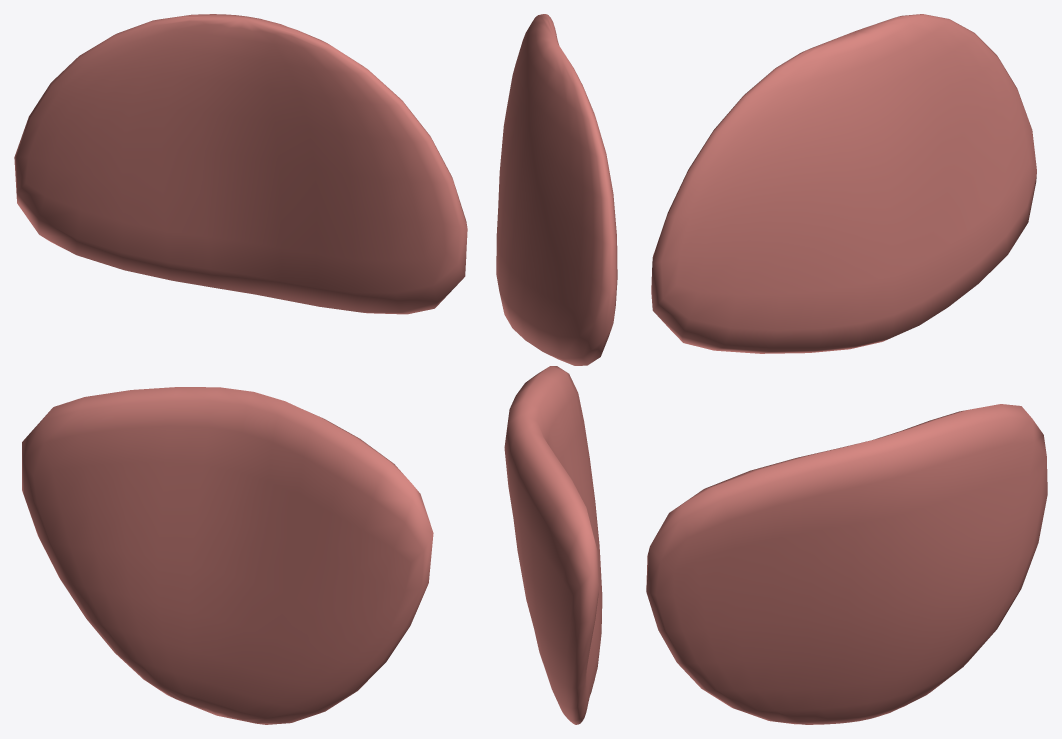
3 views of the same model, side by side, from view 1: azimuth 30°, elevation 25°; view 2: azimuth 150°, elevation 25°; view 3: azimuth 270°, elevation 25° (orthographic). The views are drawn at different scales.
Visible parts, largest first — view 1: ZA_2e411aa8164793fc; view 2: ZA_2e411aa8164793fc; view 3: ZA_2e411aa8164793fc.
Boxes of the visible parts, x1,y1,x2,y2 form: ZA_2e411aa8164793fc: (14,14,467,724); ZA_2e411aa8164793fc: (496,14,617,724); ZA_2e411aa8164793fc: (646,14,1047,724).
Size of the model in its own units: 0.0129 by 0.031 by 0.016.
